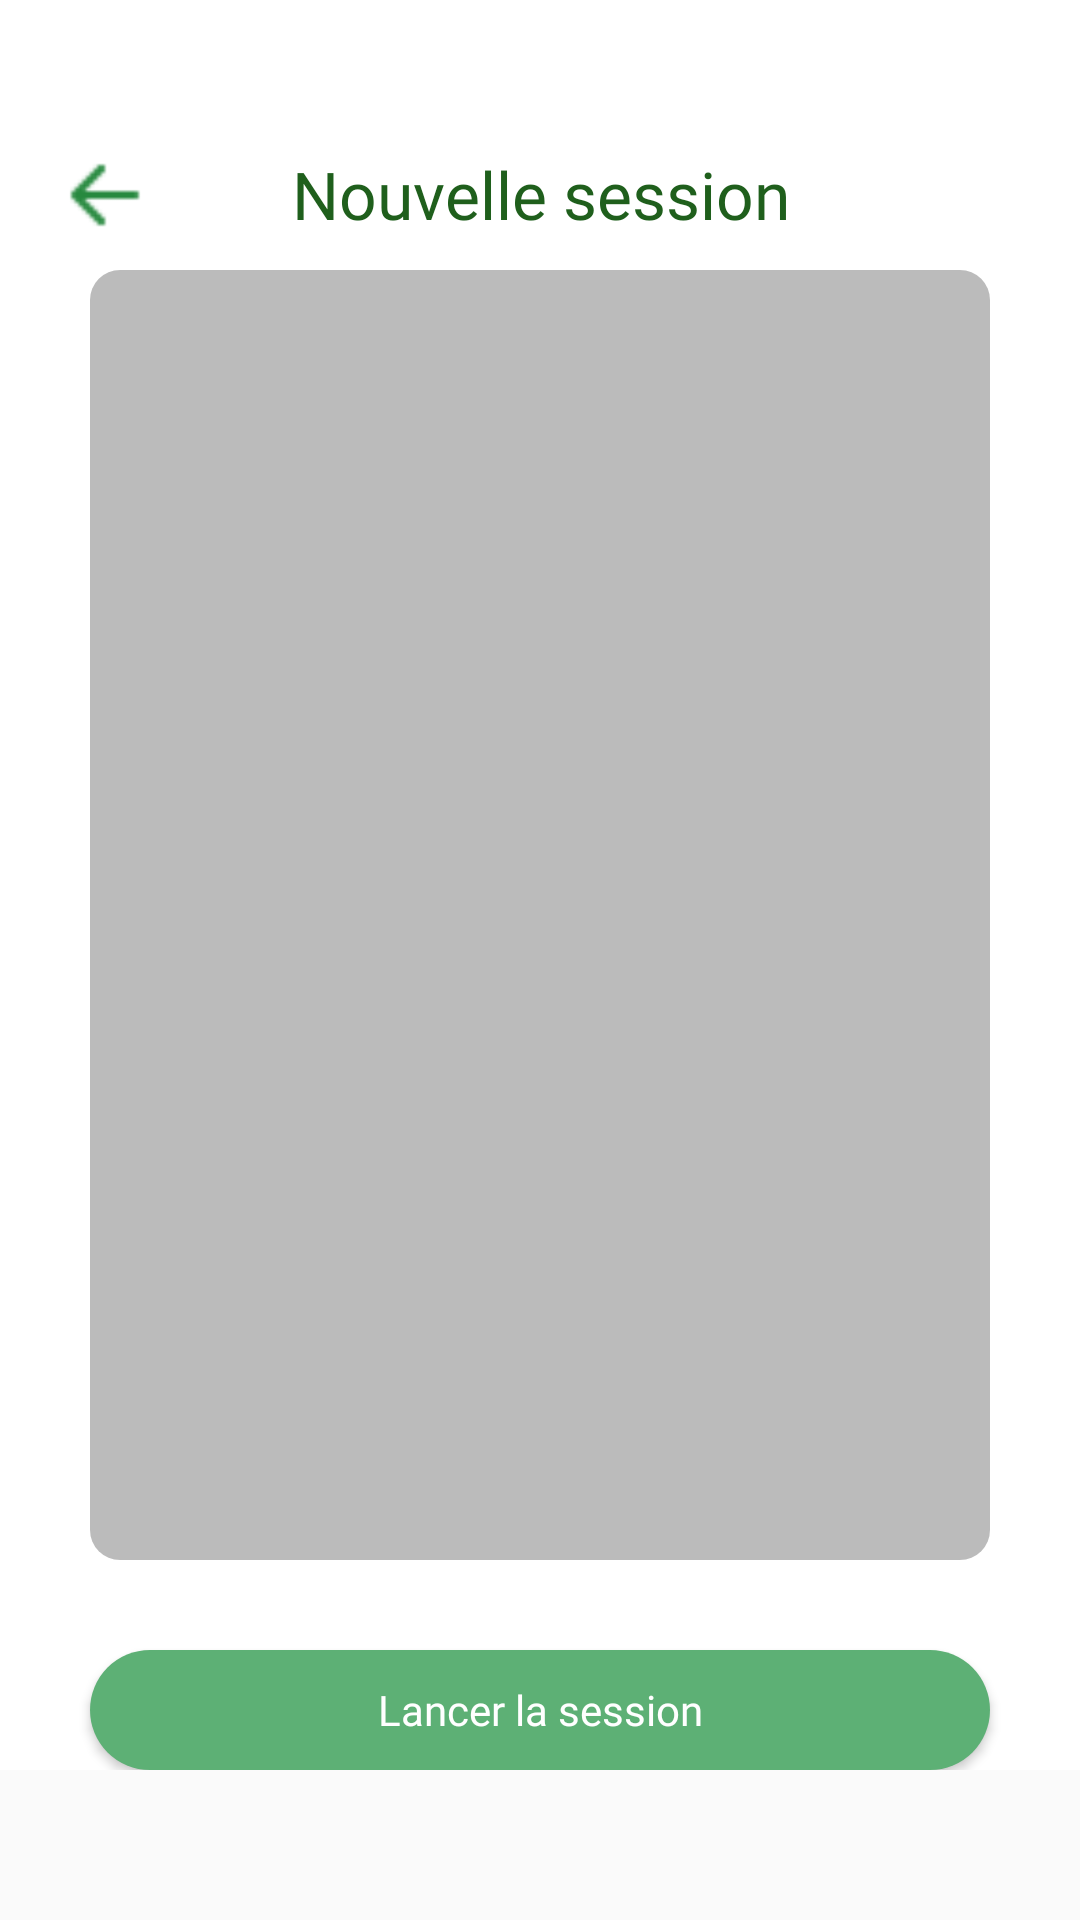

Screen size 1080 × 1920. Icon name, then its center in pixels as [x,y]:
Retour: [105,195]
